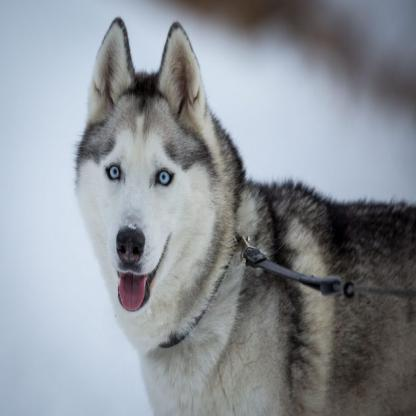dog: (73, 19, 416, 416)
